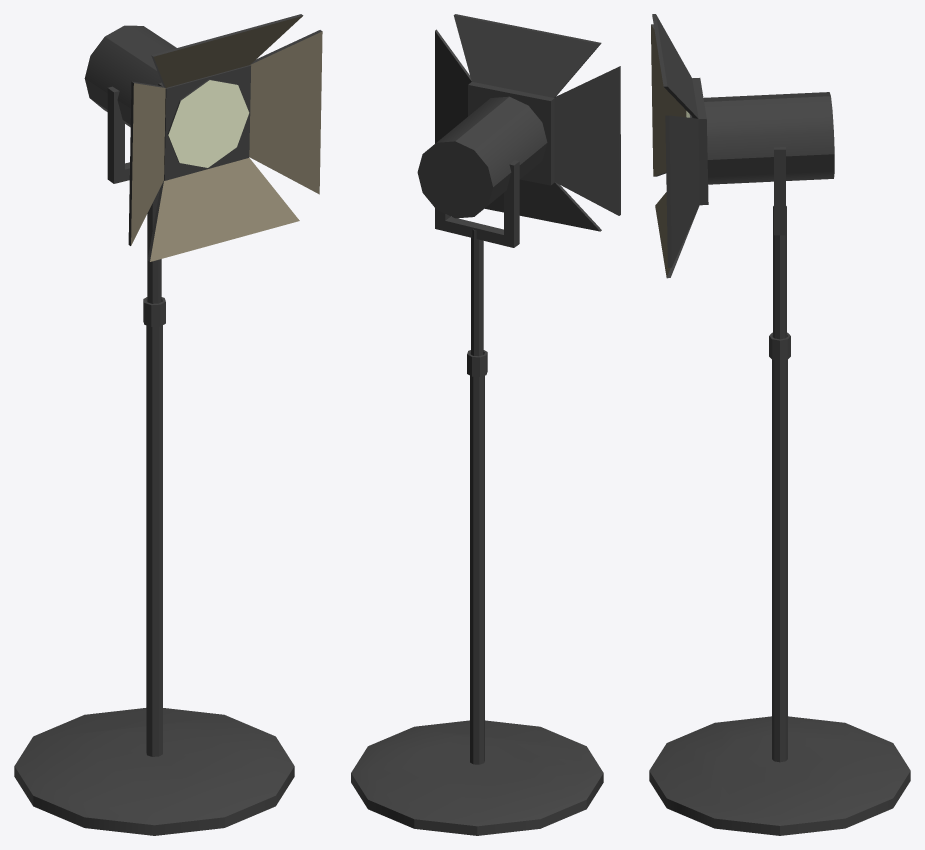
Rendered from Redhead.fbx.
3 renders of one model, left to right at view 1: azimuth 30°, elevation 25°; view 2: azimuth 150°, elevation 25°; view 3: azimuth 270°, elevation 25°, orthographic. The views are drawn at different scales.
Visible parts, largest first — view 1: Redhead shuttered, Lower Stand Redhead, Upper stand Redhead; view 2: Redhead shuttered, Lower Stand Redhead, Upper stand Redhead; view 3: Lower Stand Redhead, Redhead shuttered, Upper stand Redhead.
Part boxes in pixels (x1,y1,x2,y2): Redhead shuttered: (84, 14, 322, 261); Lower Stand Redhead: (14, 297, 294, 835); Upper stand Redhead: (107, 86, 161, 303); Redhead shuttered: (417, 14, 620, 231); Lower Stand Redhead: (351, 350, 603, 835); Upper stand Redhead: (435, 160, 519, 356); Lower Stand Redhead: (649, 332, 910, 835); Redhead shuttered: (651, 14, 834, 278); Upper stand Redhead: (773, 147, 786, 339).
Size of the model in its own units: 59.48 by 184 by 59.48.
